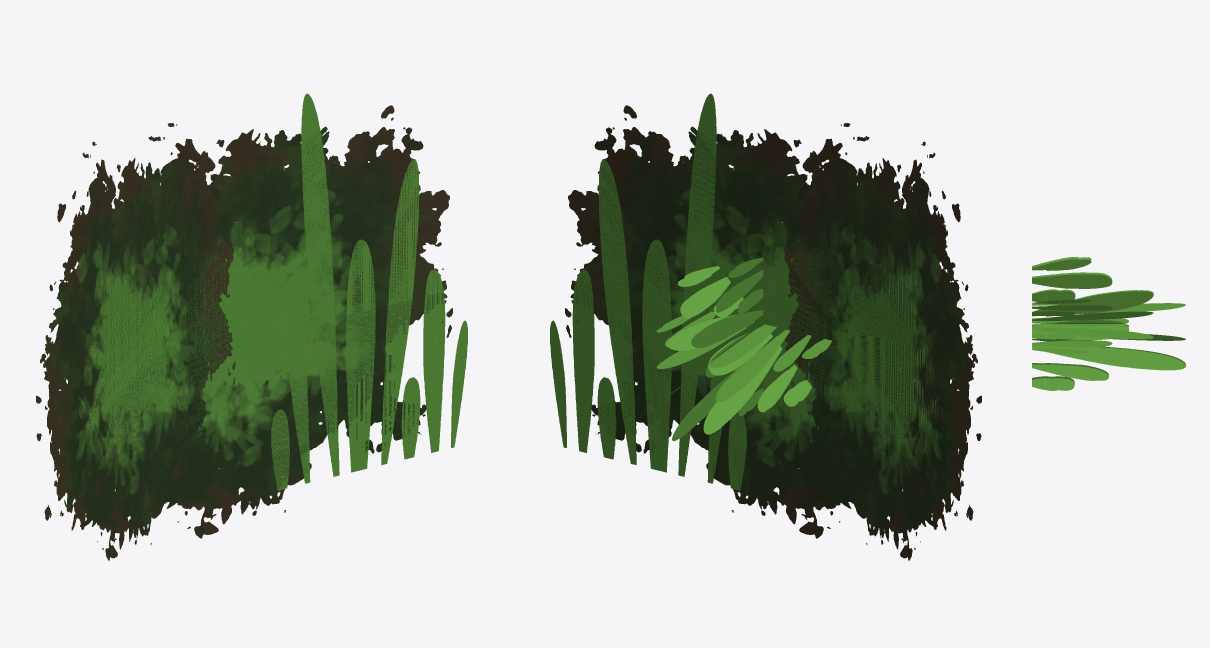
The model's file is GrassProOne3.fbx.
3 views of the same model, side by side, from view 1: azimuth 30°, elevation 25°; view 2: azimuth 150°, elevation 25°; view 3: azimuth 270°, elevation 25° (orthographic). The views are drawn at different scales.
Visible parts, largest first — view 1: Plane.001; view 2: Plane.001; view 3: Plane.001.
Boxes of the visible parts, x1,y1,x2,y2 form: Plane.001: (36, 93, 467, 560); Plane.001: (550, 93, 981, 560); Plane.001: (1032, 257, 1185, 390).
Bounding box in the file's own units: 569 × 569 × 200.
